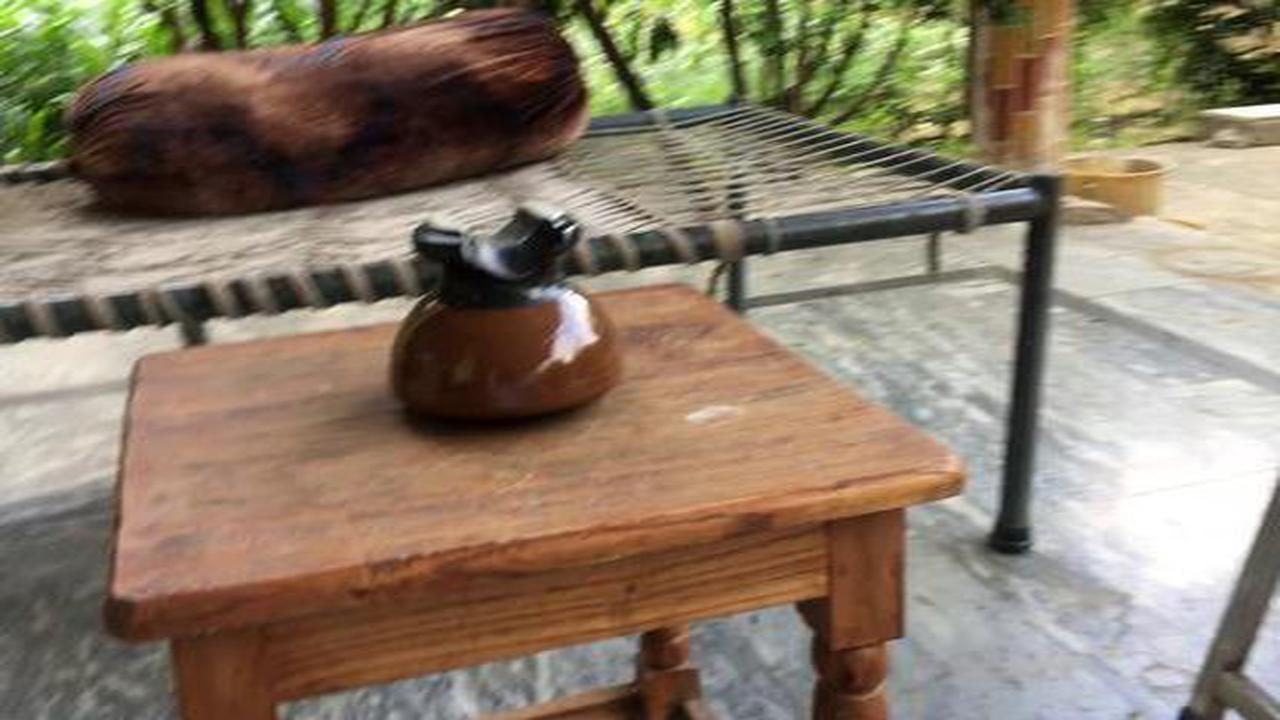insulator_pin: (373, 196, 644, 444)
